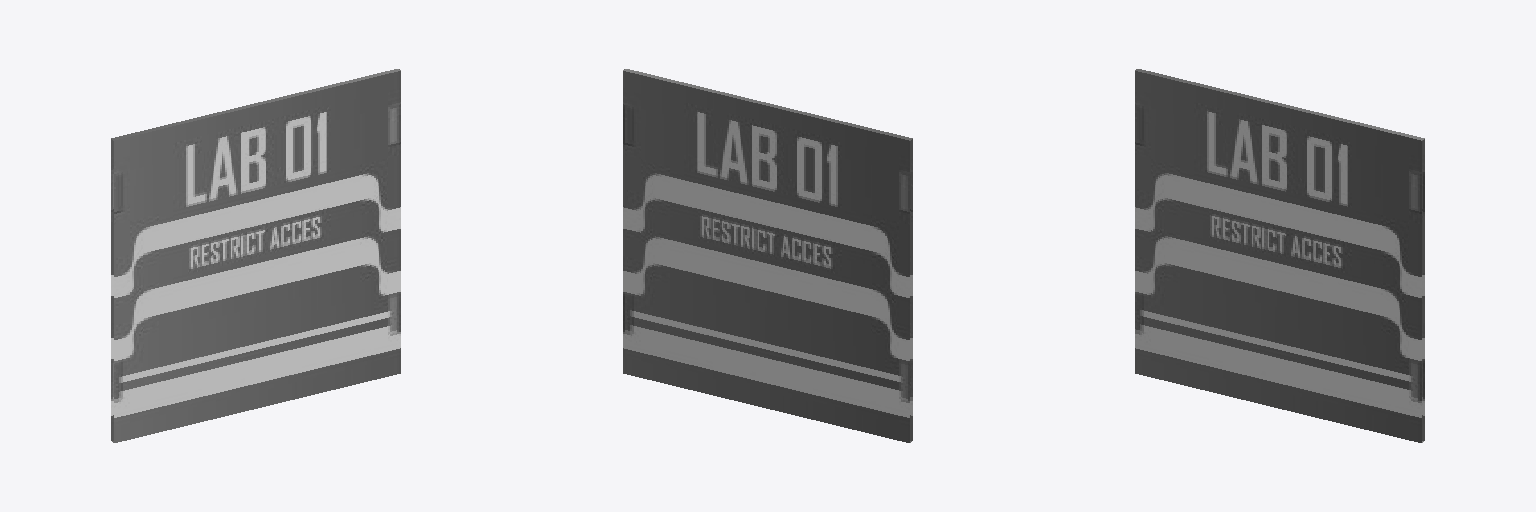
The picture shows the model from 3 angles: view 1: azimuth 30°, elevation 25°; view 2: azimuth 150°, elevation 25°; view 3: azimuth 330°, elevation 25°; orthographic projection.
Visible parts, largest first — view 1: mesh02; view 2: mesh02; view 3: mesh02.
Boxes of the visible parts, <box> form: mesh02: <box>111,69,400,442</box>; mesh02: <box>623,69,912,442</box>; mesh02: <box>1135,69,1424,442</box>.
Size of the model in its own units: 34.78 by 35.01 by 0.6349.
Materials: 1 (1 with a texture image).